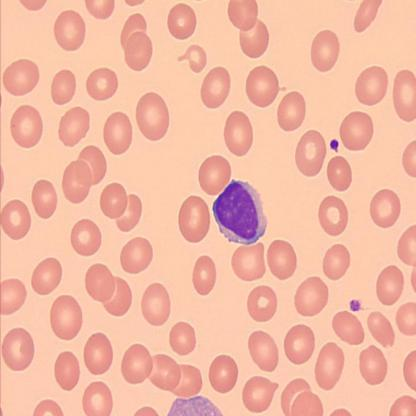Lymphocyte: (211, 178, 270, 246)
